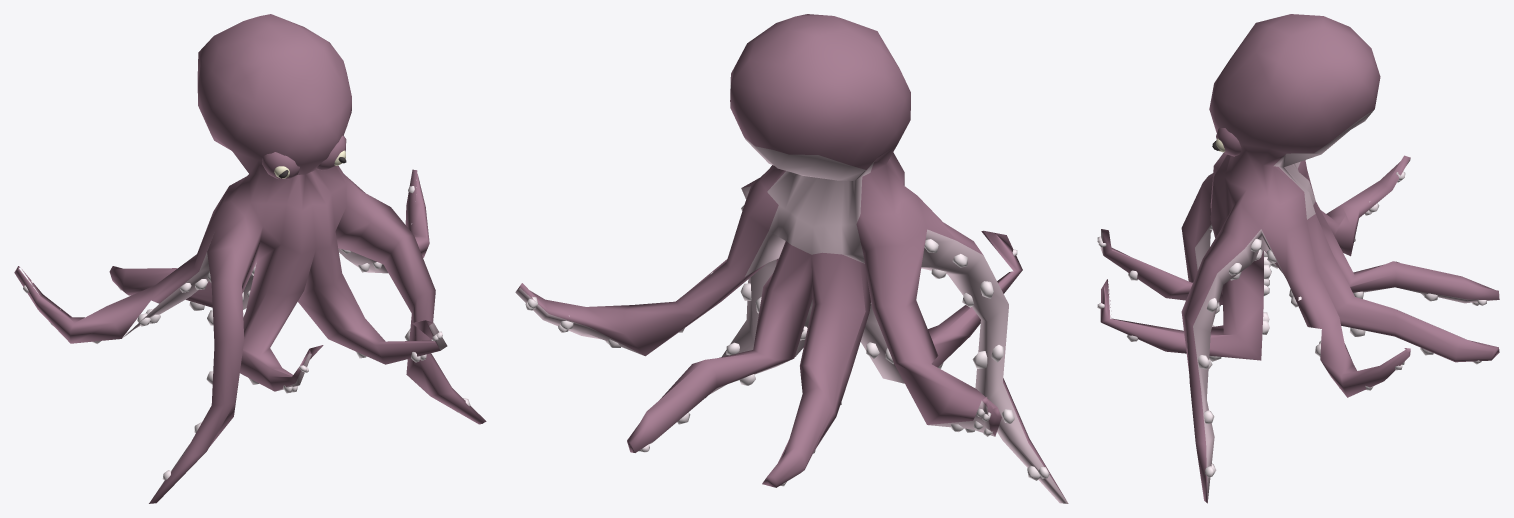
File: Octopus.glb
3 views of the same model, side by side, from view 1: azimuth 30°, elevation 25°; view 2: azimuth 150°, elevation 25°; view 3: azimuth 270°, elevation 25° (orthographic). The views are drawn at different scales.
Parts seen in each view (by area): view 1: Symmetry.1; view 2: Symmetry.1; view 3: Symmetry.1.
Boxes of the visible parts, box(x1,y1,x2,y2) form: Symmetry.1: box(14, 14, 486, 503); Symmetry.1: box(515, 14, 1068, 503); Symmetry.1: box(1097, 14, 1499, 503).
Bounding box in the file's own units: 527 × 506 × 459.
